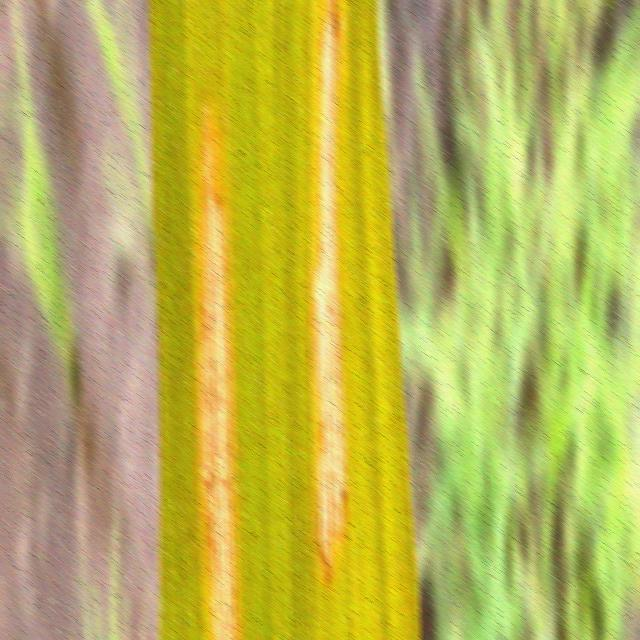BLS: (200, 105, 239, 640), (313, 0, 346, 582)
